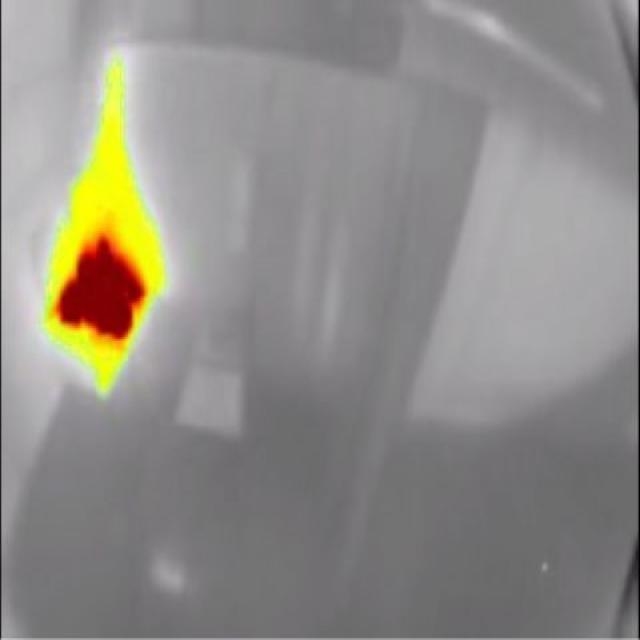fire: (41, 136, 173, 362)
